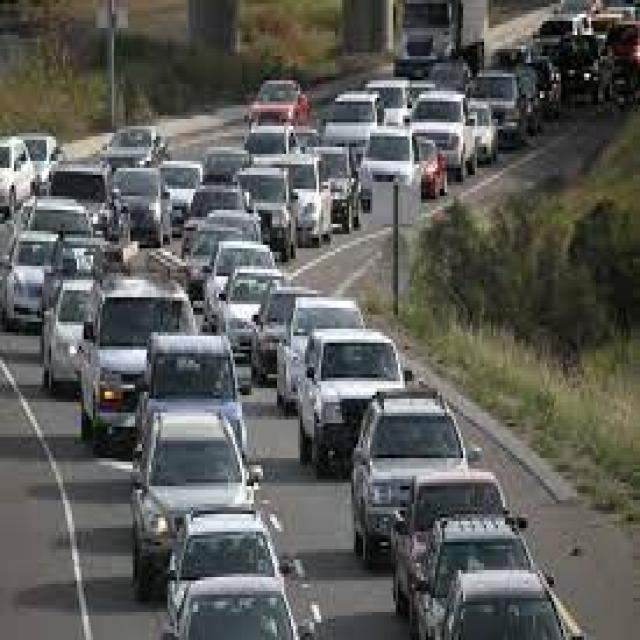vehicle: (381, 354, 507, 594), (113, 415, 272, 532), (155, 325, 272, 452), (29, 279, 137, 412), (82, 294, 200, 413), (339, 469, 553, 526), (414, 79, 506, 206), (324, 66, 415, 191), (144, 580, 321, 640), (227, 37, 327, 130), (367, 0, 507, 66), (438, 575, 580, 640), (291, 328, 397, 414), (491, 59, 568, 165), (263, 290, 373, 362), (234, 152, 333, 232), (165, 528, 291, 586), (210, 297, 322, 357), (0, 231, 76, 312), (94, 109, 184, 177), (176, 214, 306, 254), (600, 4, 640, 131), (0, 94, 40, 202), (115, 196, 168, 274)
